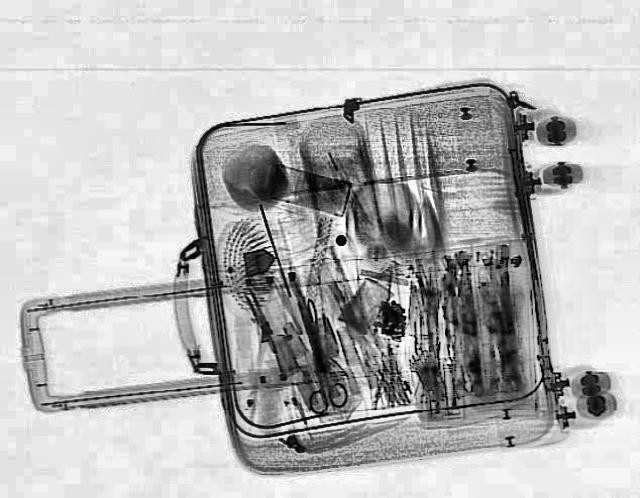Scissors: (286, 312, 352, 414)
